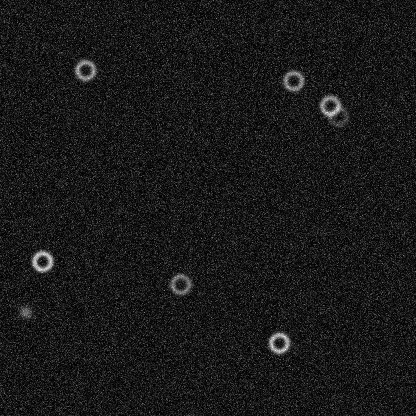Ring: (281, 68, 305, 92), (73, 58, 97, 82), (267, 330, 291, 354), (30, 249, 54, 273), (168, 272, 192, 296), (326, 104, 350, 128), (318, 93, 342, 117)
Spot: (17, 304, 33, 320)
